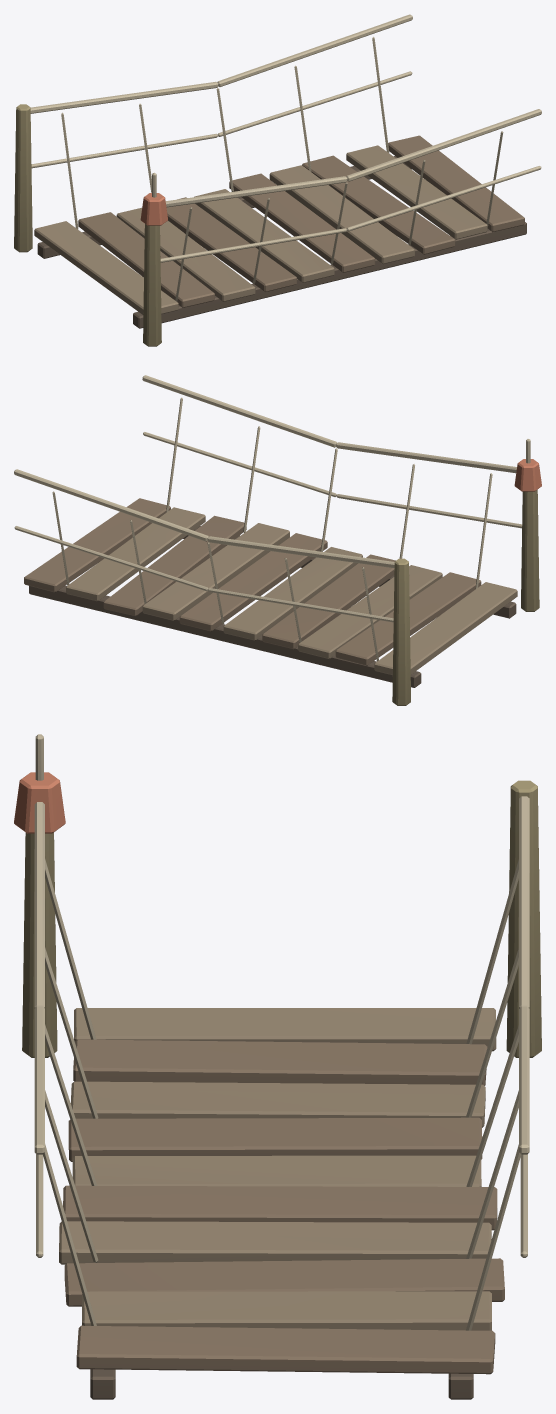
The model's file is iv_bridge.glb.
3 views of the same model, one above another, from view 1: azimuth 30°, elevation 25°; view 2: azimuth 150°, elevation 25°; view 3: azimuth 270°, elevation 25° (orthographic). The views are drawn at different scales.
Parts seen in each view (by area): view 1: iv_bridge; view 2: iv_bridge; view 3: iv_bridge.
Part boxes in pixels (x1,y1,x2,y2): iv_bridge: (14,14,541,346); iv_bridge: (14,375,541,705); iv_bridge: (14,734,541,1399).
Bounding box in the file's own units: 4.09 × 1.67 × 2.51.
